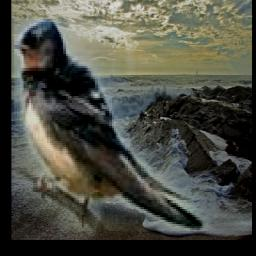Swallow: (14, 19, 252, 231)
